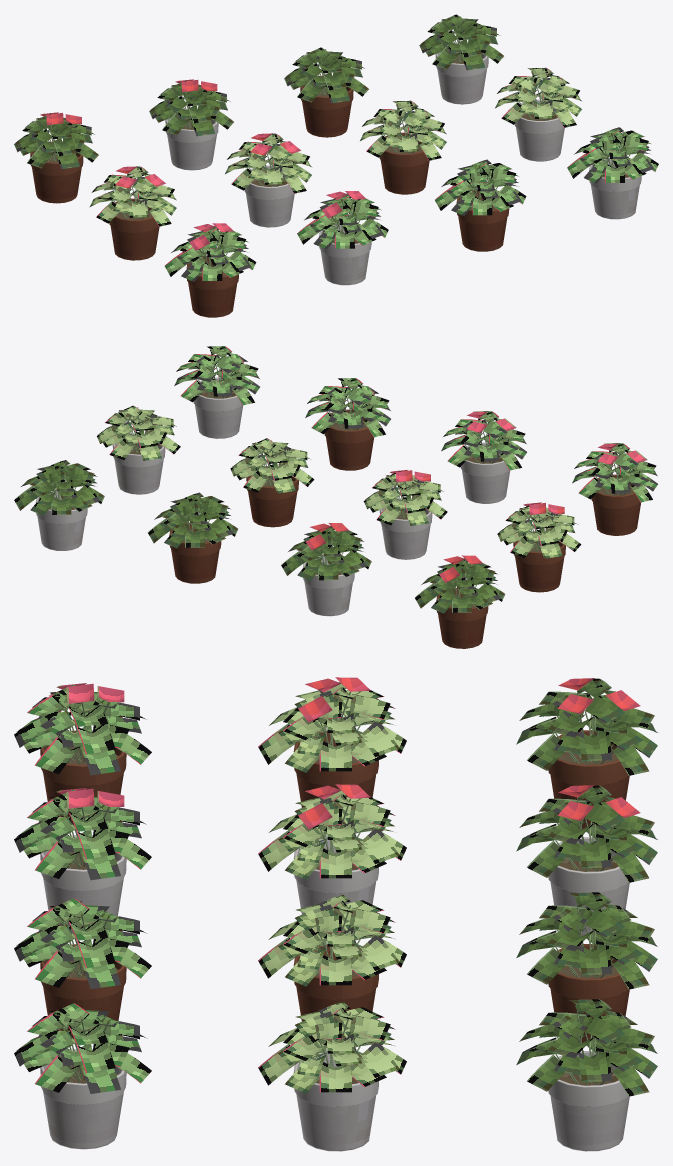
The model's file is a_com_house_a01_plant06.gltf.
3 views of the same model, one above another, from view 1: azimuth 30°, elevation 25°; view 2: azimuth 150°, elevation 25°; view 3: azimuth 270°, elevation 25° (orthographic). The views are drawn at different scales.
Visible parts, largest first — view 1: um_a_com_house_a01_plant06_model_a_com_house_a01_plant06_mod (×3); view 2: um_a_com_house_a01_plant06_model_a_com_house_a01_plant06_mod (×3); view 3: um_a_com_house_a01_plant06_model_a_com_house_a01_plant06_mod (×3).
Part boxes in pixels (x1=…): um_a_com_house_a01_plant06_model_a_com_house_a01_plant06_mod (×3): x1=14, y1=14, x2=658, y2=317; um_a_com_house_a01_plant06_model_a_com_house_a01_plant06_mod (×3): x1=14, y1=346, x2=657, y2=648; um_a_com_house_a01_plant06_model_a_com_house_a01_plant06_mod (×3): x1=14, y1=677, x2=657, y2=1151.
Bounding box in the file's own units: 1.78 × 0.2936 × 1.27.
Materials: 3 (3 with a texture image).
